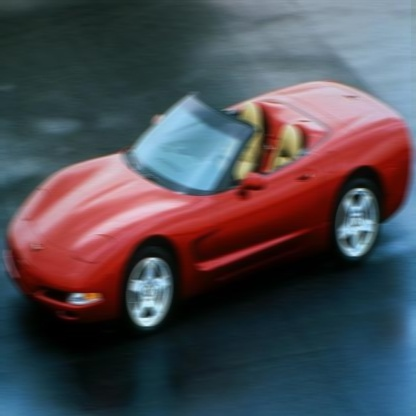Vehicle: (4, 81, 413, 341)
